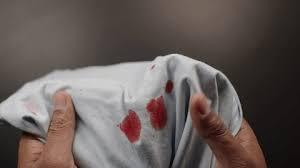blood: (118, 110, 143, 141), (146, 97, 169, 129)
